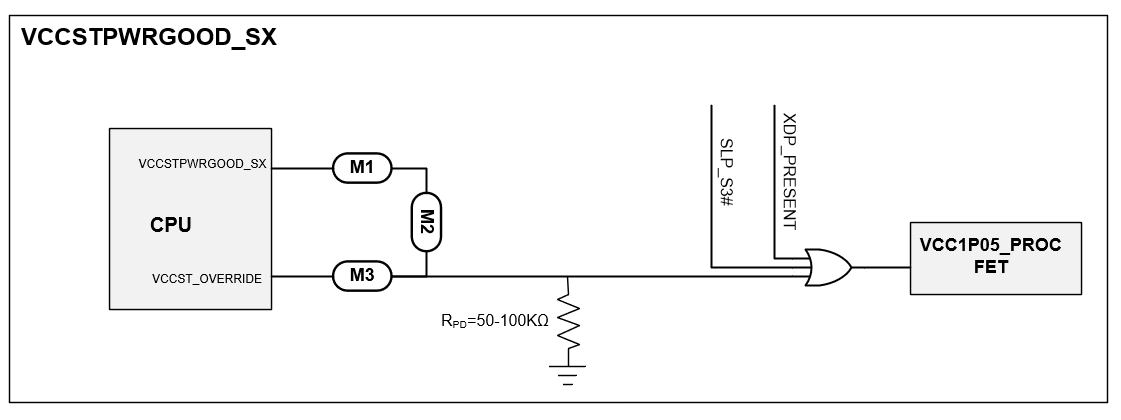OR: (794, 238, 858, 303)
ground: (543, 362, 603, 390)
oval: (398, 186, 450, 258), (324, 144, 396, 188), (328, 251, 400, 295)
rectangle: (95, 114, 290, 332), (903, 213, 1086, 300)
resistor: (550, 290, 597, 355)
